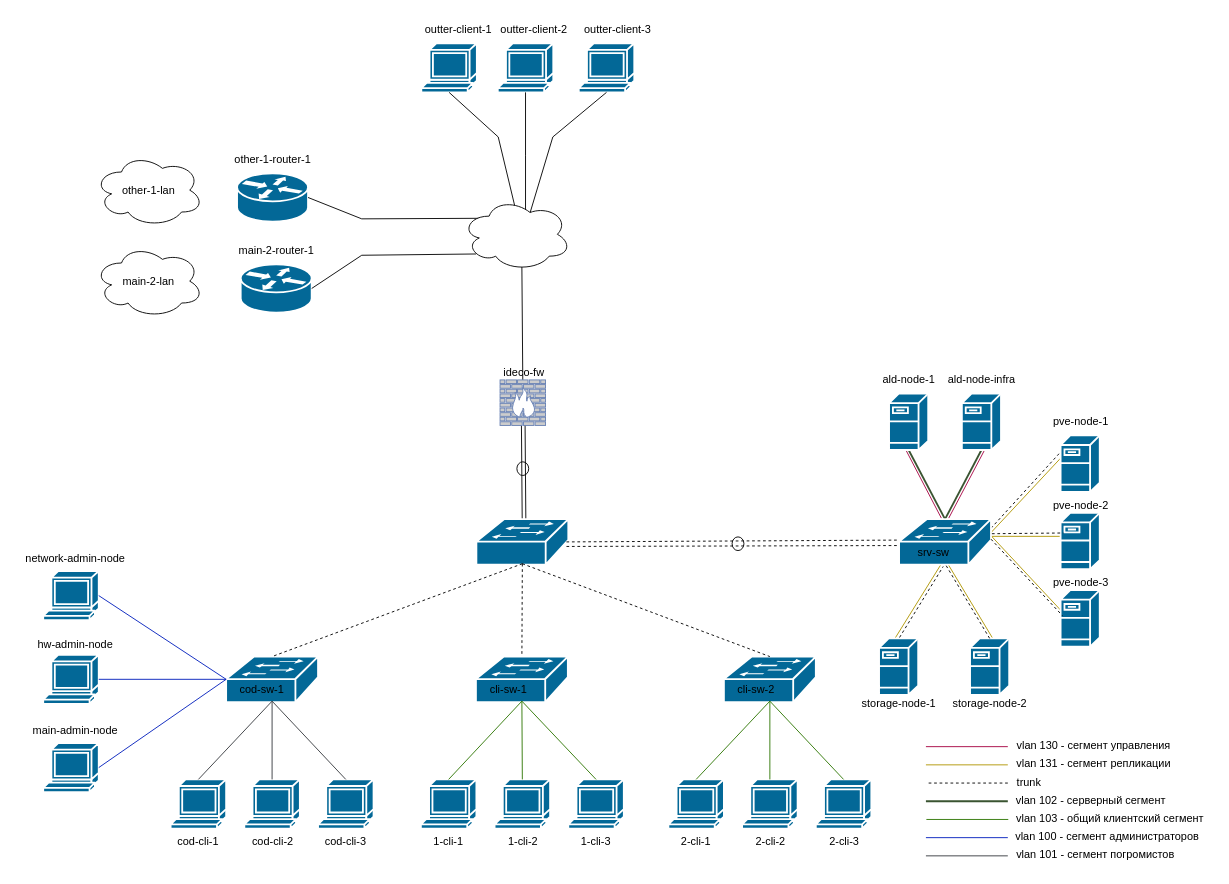
Image size: 1229x884. Some labels were removed from this diagram. The shapes that lost their labels are listed below. From the top down, each one's centre as x and y in pixels, then its label:
the point at 516,234: OpenVPN
the point at 522,541: core-sw
